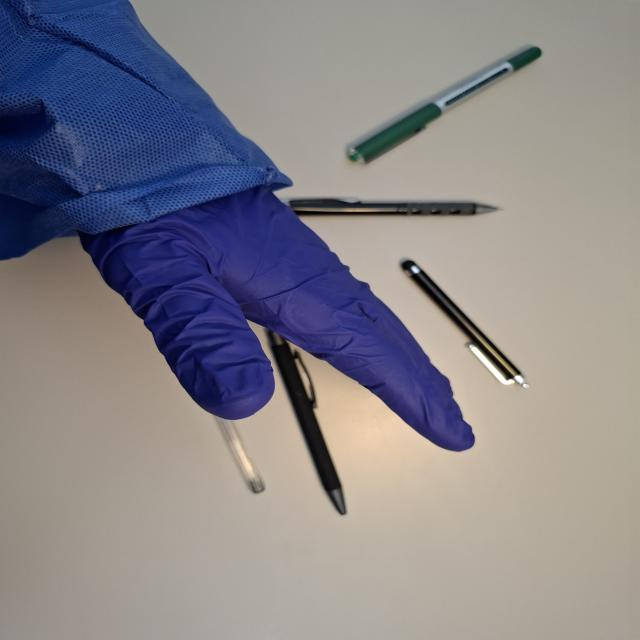glove_on: (72, 168, 480, 455)
